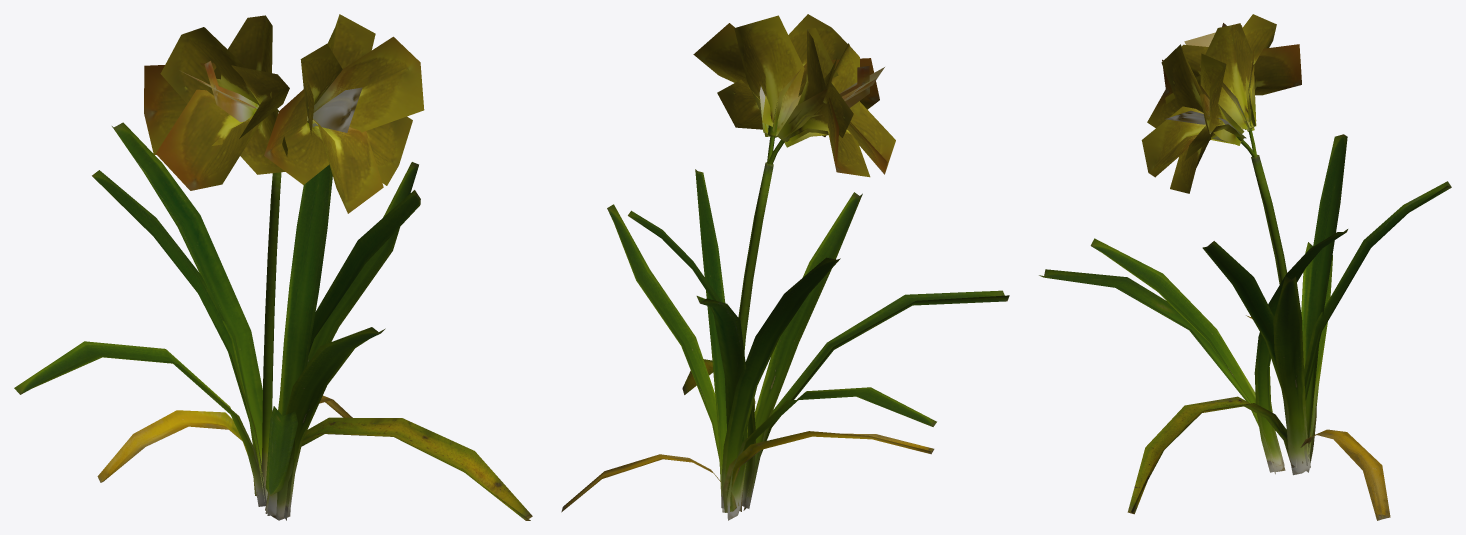
The model's file is Amaryllis_OG_normal_yellowgreen.glb.
The picture shows the model from 3 angles, left to right: view 1: azimuth 30°, elevation 25°; view 2: azimuth 150°, elevation 25°; view 3: azimuth 270°, elevation 25°; orthographic projection. The views are drawn at different scales.
Visible parts, largest first — view 1: og; view 2: og; view 3: og.
Part boxes in pixels (x1,y1,x2,y2): og: (14, 14, 532, 520); og: (561, 14, 1009, 520); og: (1039, 14, 1451, 520).
Size of the model in its own units: 1.36 by 1.74 by 1.51.
1 material, 1 textured.
